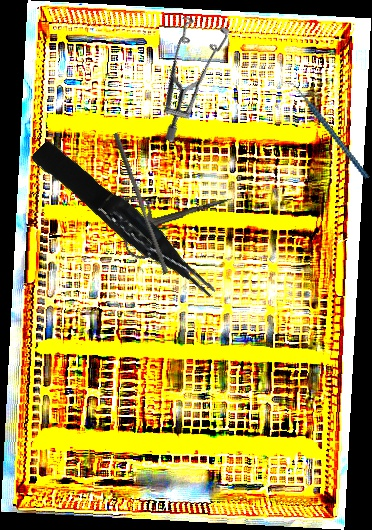Chopper: (282, 65, 370, 195)
Iris Scissors: (112, 169, 242, 263)
Pusher: (107, 132, 174, 275)
Speculum: (113, 0, 262, 144)
Tissue Forceps: (30, 131, 220, 313)
